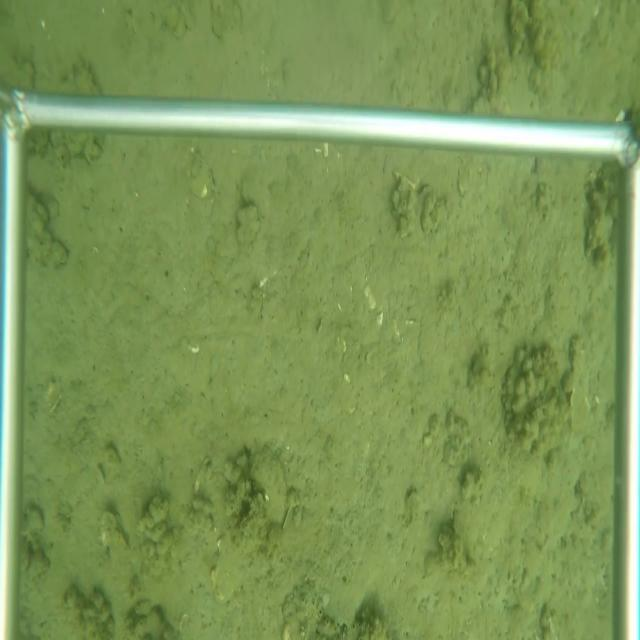Oyster-Indeterminate: (246, 447, 287, 524)
